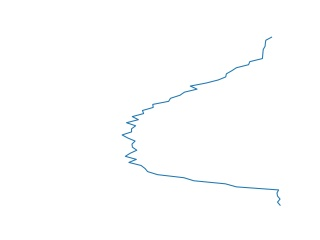underwaterDistributaryChannel: (119, 34, 287, 207)
